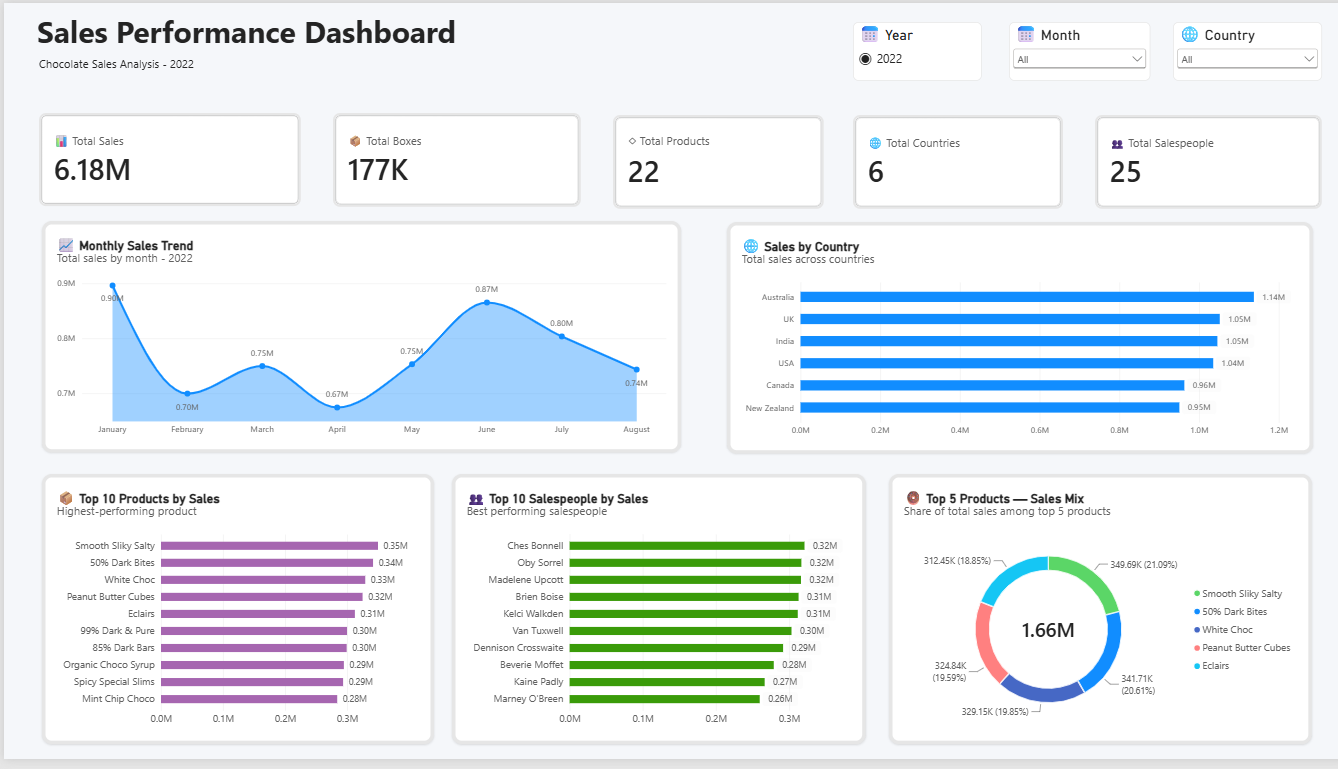

The dashboard page shown, as its layout file describes it:
{"tool":"powerbi","page":{"name":"Page 1","canvas":[1920,1080],"ordinal":0},"visuals":[{"type":"cardVisual","fields":{"Data":["Sum(sales_analysis sales_analysis_view.Sales)"]},"box":[50,157.8,374.4,133.3],"z":0},{"type":"cardVisual","fields":{"Data":["Sum(sales_analysis sales_analysis_view.Boxes_Shipped)"]},"box":[470,157.8,354.4,134.4],"z":1},{"type":"cardVisual","fields":{"Data":["Count(sales_analysis sales_analysis_view.Product)"]},"box":[870,160,301.1,134.4],"z":2},{"type":"cardVisual","fields":{"Data":["Count(sales_analysis sales_analysis_view.Country)"]},"box":[1212.2,160,300,134.4],"z":3},{"type":"cardVisual","fields":{"Data":["Count(sales_analysis sales_analysis_view.Sales_Person)"]},"box":[1558.9,160,324.4,134.4],"z":4},{"type":"lineChart","title":"📈 Monthly Sales Trend","fields":{"Category":["sales_analysis sales_analysis_view.Month"],"Y":["Sum(sales_analysis sales_analysis_view.Sales)"]},"box":[54.7,312,913.3,331.3],"z":5},{"type":"clusteredBarChart","title":"🌐 Sales by Country","fields":{"Category":["sales_analysis sales_analysis_view.Country"],"Y":["Sum(sales_analysis sales_analysis_view.Sales)"]},"box":[1032.2,312.2,836.7,331.1],"z":6},{"type":"clusteredBarChart","title":"📦 Top 10 Products by Sales","fields":{"Category":["sales_analysis sales_analysis_view.Product"],"Y":["Sum(sales_analysis sales_analysis_view.Sales)"]},"box":[54.3,672.9,560,385.7],"z":7},{"type":"clusteredBarChart","title":"👥 Top 10 Salespeople by Sales","fields":{"Category":["sales_analysis sales_analysis_view.Sales_Person"],"Y":["Sum(sales_analysis sales_analysis_view.Sales)"]},"box":[640,672.9,591.4,385.7],"z":8},{"type":"donutChart","title":"🍩 Top 5 Products — Sales Mix","fields":{"Category":["sales_analysis sales_analysis_view.Product"],"Y":["Sum(sales_analysis sales_analysis_view.Sales)"]},"box":[1264.3,672.9,604.3,385.7],"z":9},{"type":"textbox","box":[47.1,11.4,815.7,64.3],"z":11},{"type":"textbox","box":[50,75.7,247.1,35.7],"z":12},{"type":"slicer","title":"📅 Year","fields":{"Values":["sales_analysis sales_analysis_view.Year"]},"box":[1212.2,26.7,184.4,84.4],"z":13},{"type":"slicer","fields":{"Values":["sales_analysis sales_analysis_view.Month"]},"box":[1435.6,26.7,202.2,84.4],"z":14},{"type":"slicer","fields":{"Values":["sales_analysis sales_analysis_view.Country"]},"box":[1670,26.7,213.3,84.4],"z":15}]}

Visuals, with their boxes in screenshot pixels (x1, y1, x2, y2), scaled from the page's 1920x1080 canvas onto the 1338x769 screenshot:
cardVisual - Sum(sales_analysis sales_analysis_view.Sales): bbox=(35, 112, 296, 207)
cardVisual - Sum(sales_analysis sales_analysis_view.Boxes_Shipped): bbox=(328, 112, 575, 208)
cardVisual - Count(sales_analysis sales_analysis_view.Product): bbox=(606, 114, 816, 210)
cardVisual - Count(sales_analysis sales_analysis_view.Country): bbox=(845, 114, 1054, 210)
cardVisual - Count(sales_analysis sales_analysis_view.Sales_Person): bbox=(1086, 114, 1312, 210)
"📈 Monthly Sales Trend" lineChart: bbox=(38, 222, 675, 458)
"🌐 Sales by Country" clusteredBarChart: bbox=(719, 222, 1302, 458)
"📦 Top 10 Products by Sales" clusteredBarChart: bbox=(38, 479, 428, 754)
"👥 Top 10 Salespeople by Sales" clusteredBarChart: bbox=(446, 479, 858, 754)
"🍩 Top 5 Products — Sales Mix" donutChart: bbox=(881, 479, 1302, 754)
textbox: bbox=(33, 8, 601, 54)
textbox: bbox=(35, 54, 207, 79)
"📅 Year" slicer: bbox=(845, 19, 973, 79)
slicer - sales_analysis sales_analysis_view.Month: bbox=(1000, 19, 1141, 79)
slicer - sales_analysis sales_analysis_view.Country: bbox=(1164, 19, 1312, 79)
